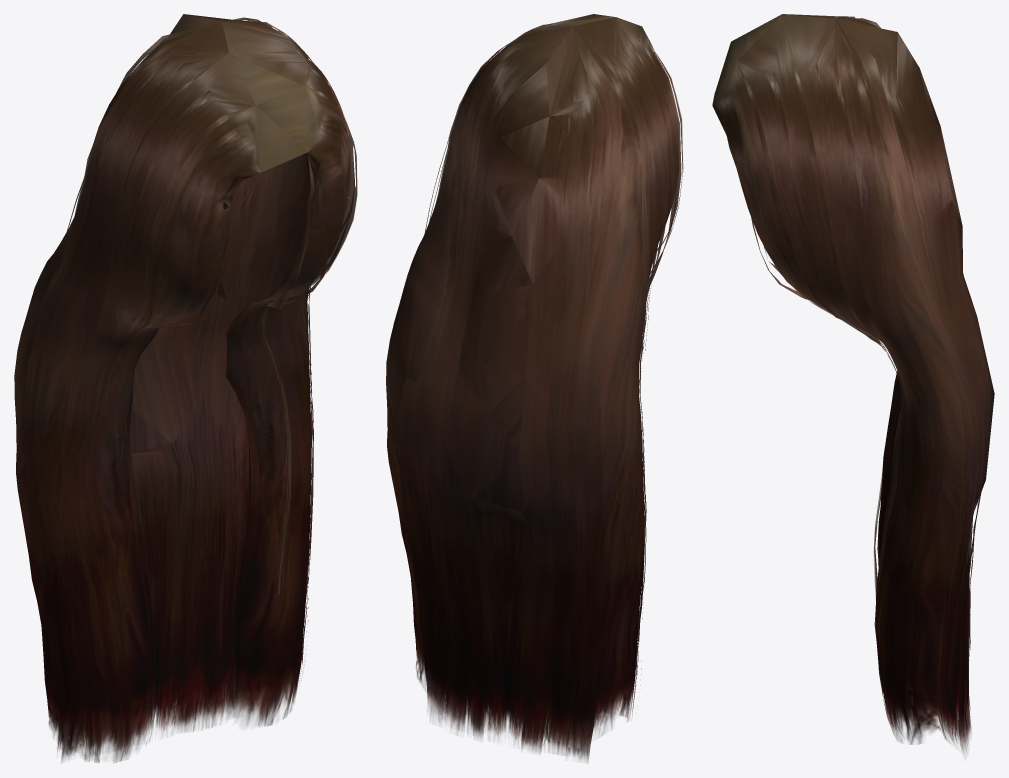
The model's file is long-asian.glb.
3 renders of one model, left to right at view 1: azimuth 30°, elevation 25°; view 2: azimuth 150°, elevation 25°; view 3: azimuth 270°, elevation 25°, orthographic. The views are drawn at different scales.
Visible parts, largest first — view 1: hair_long; view 2: hair_long; view 3: hair_long.
Boxes of the visible parts, box(x1,y1,x2,y2) form: hair_long: box(14, 14, 357, 762); hair_long: box(386, 14, 683, 762); hair_long: box(712, 14, 994, 753).
Bounding box in the file's own units: 0.3006 × 0.7766 × 0.2811.
1 material, 1 textured.
